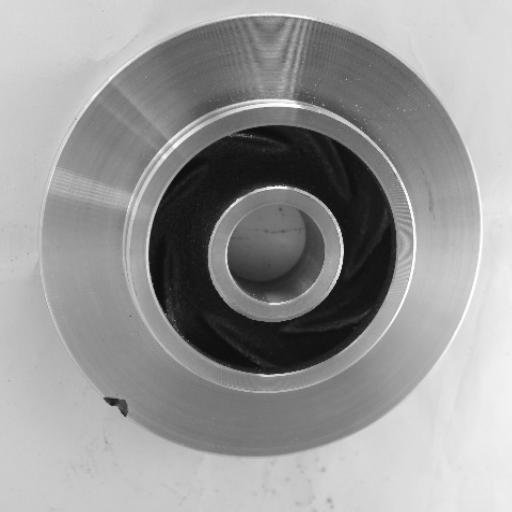crack: (92, 388, 155, 427)
unpolished_casting: (38, 10, 485, 461)
